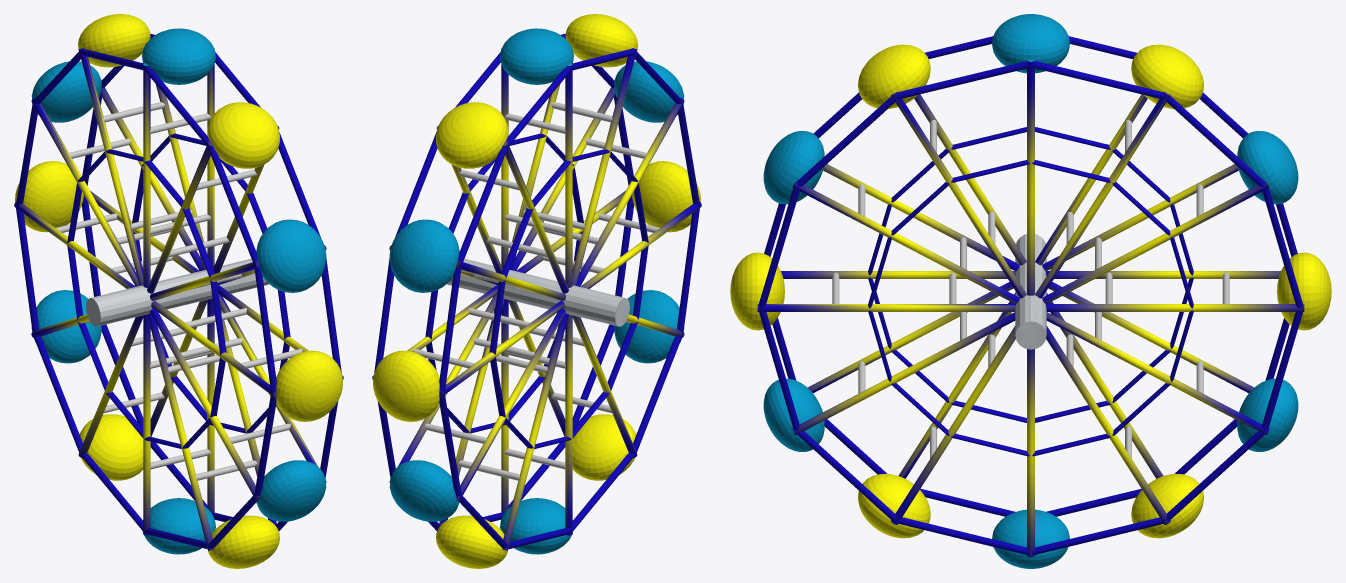
Rendered from Model_FerrisWheel_Frame.obj.
The picture shows the model from 3 angles, left to right: view 1: azimuth 30°, elevation 25°; view 2: azimuth 150°, elevation 25°; view 3: azimuth 270°, elevation 25°; orthographic projection. The views are drawn at different scales.
Visible parts, largest first — view 1: Frame_Sphere; view 2: Frame_Sphere; view 3: Frame_Sphere.
Boxes of the visible parts, x1,y1,x2,y2 form: Frame_Sphere: (14,14,343,568); Frame_Sphere: (372,14,701,568); Frame_Sphere: (730,14,1331,568).
Size of the model in its own units: 5.34 by 15.4 by 15.4.
